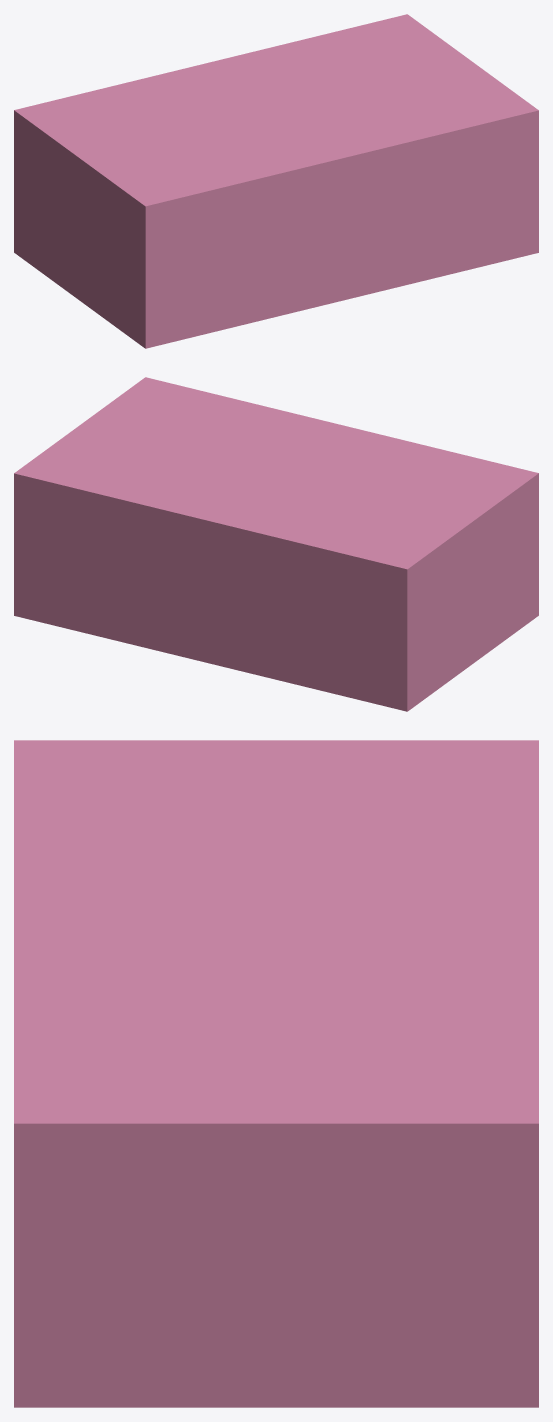
File: utah_rock_small_e.dae
The picture shows the model from 3 angles, top to bottom: view 1: azimuth 30°, elevation 25°; view 2: azimuth 150°, elevation 25°; view 3: azimuth 270°, elevation 25°; orthographic projection. The views are drawn at different scales.
Visible parts, largest first — view 1: Untitled; view 2: Untitled; view 3: Untitled.
Boxes of the visible parts, <box> form: Untitled: <box>14,14,538,348</box>; Untitled: <box>14,377,538,711</box>; Untitled: <box>14,740,538,1407</box>.
Bounding box in the file's own units: 1.44 × 0.8307 × 0.5074.
